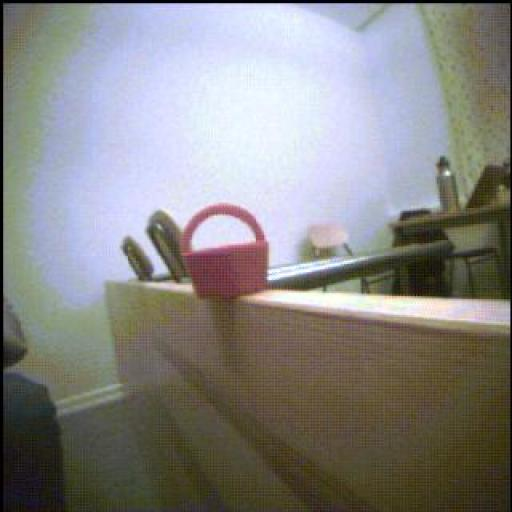Bucket: (182, 204, 270, 300)
